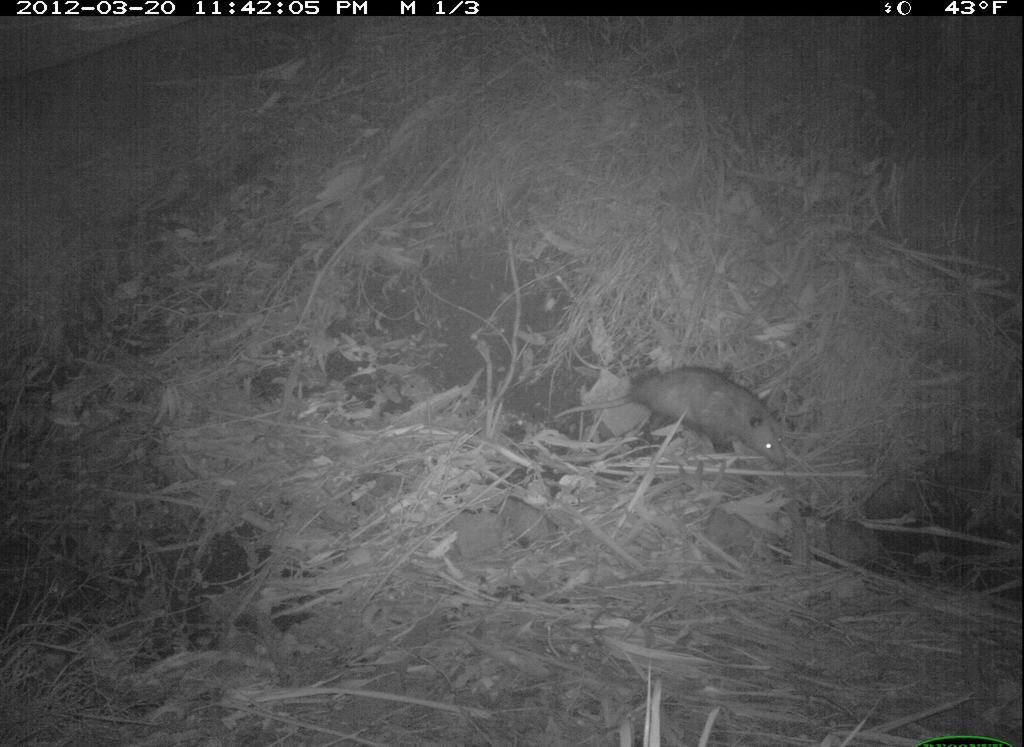opossum: (553, 350, 801, 486)
